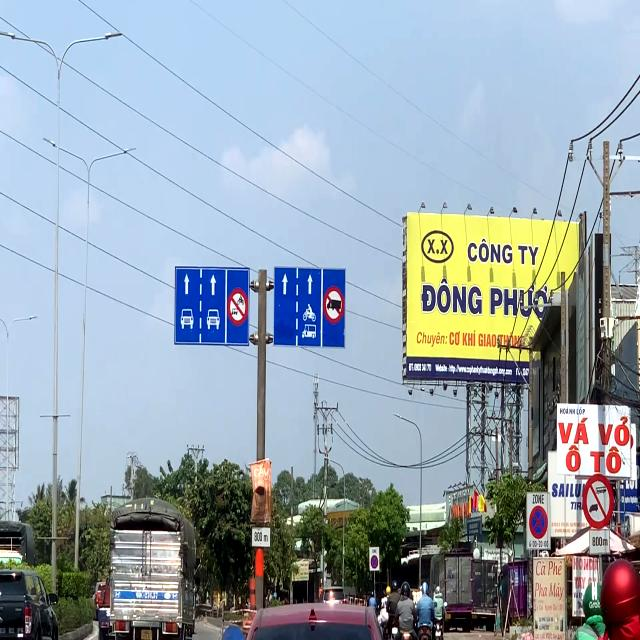P.130: (529, 505, 548, 539), (371, 555, 378, 569)
